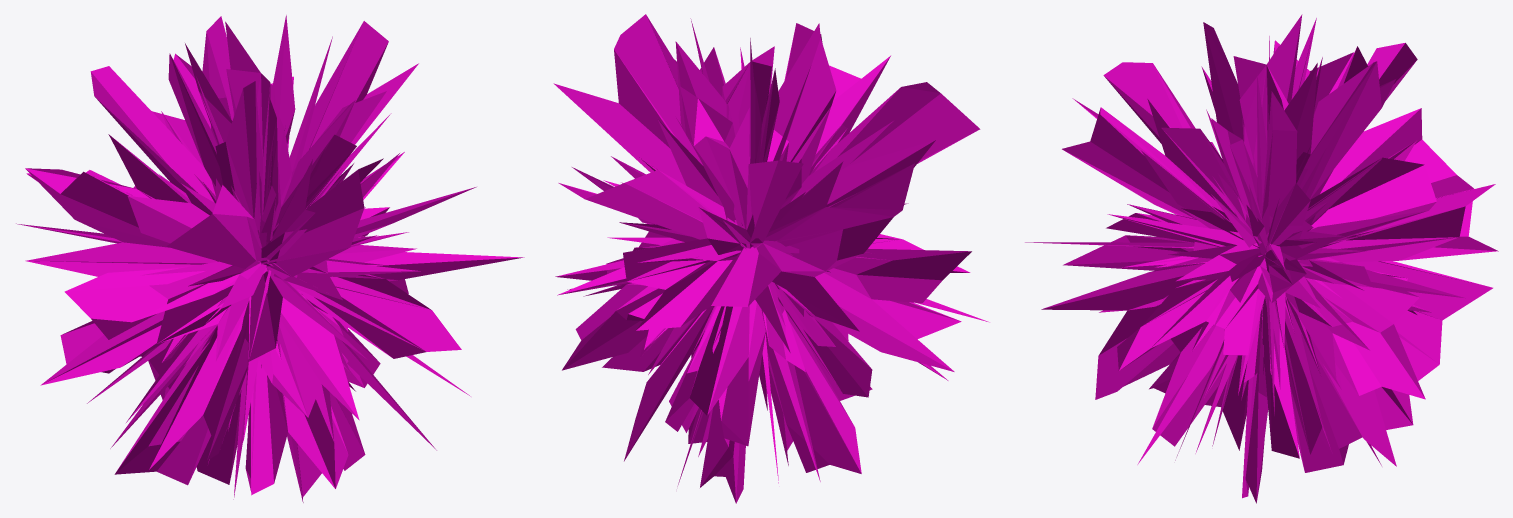
The model's file is asset.glb.
3 views of the same model, side by side, from view 1: azimuth 30°, elevation 25°; view 2: azimuth 150°, elevation 25°; view 3: azimuth 270°, elevation 25° (orthographic). The views are drawn at different scales.
Parts seen in each view (by area): view 1: Sphere.026; view 2: Sphere.026; view 3: Sphere.026.
Part boxes in pixels (x1=…): Sphere.026: x1=16, y1=15, x2=524, y2=502; Sphere.026: x1=553, y1=14, x2=989, y2=503; Sphere.026: x1=1025, y1=14, x2=1498, y2=503.
Bounding box in the file's own units: 2.81 × 3.02 × 2.84.
